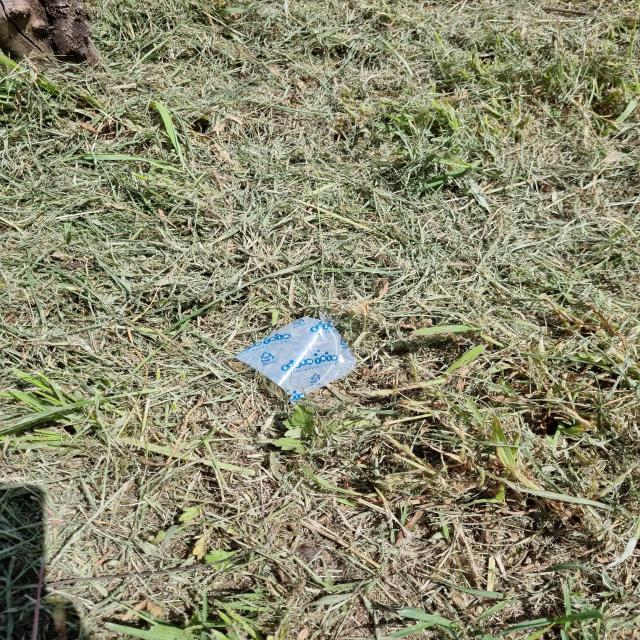litter: (234, 311, 367, 401)
